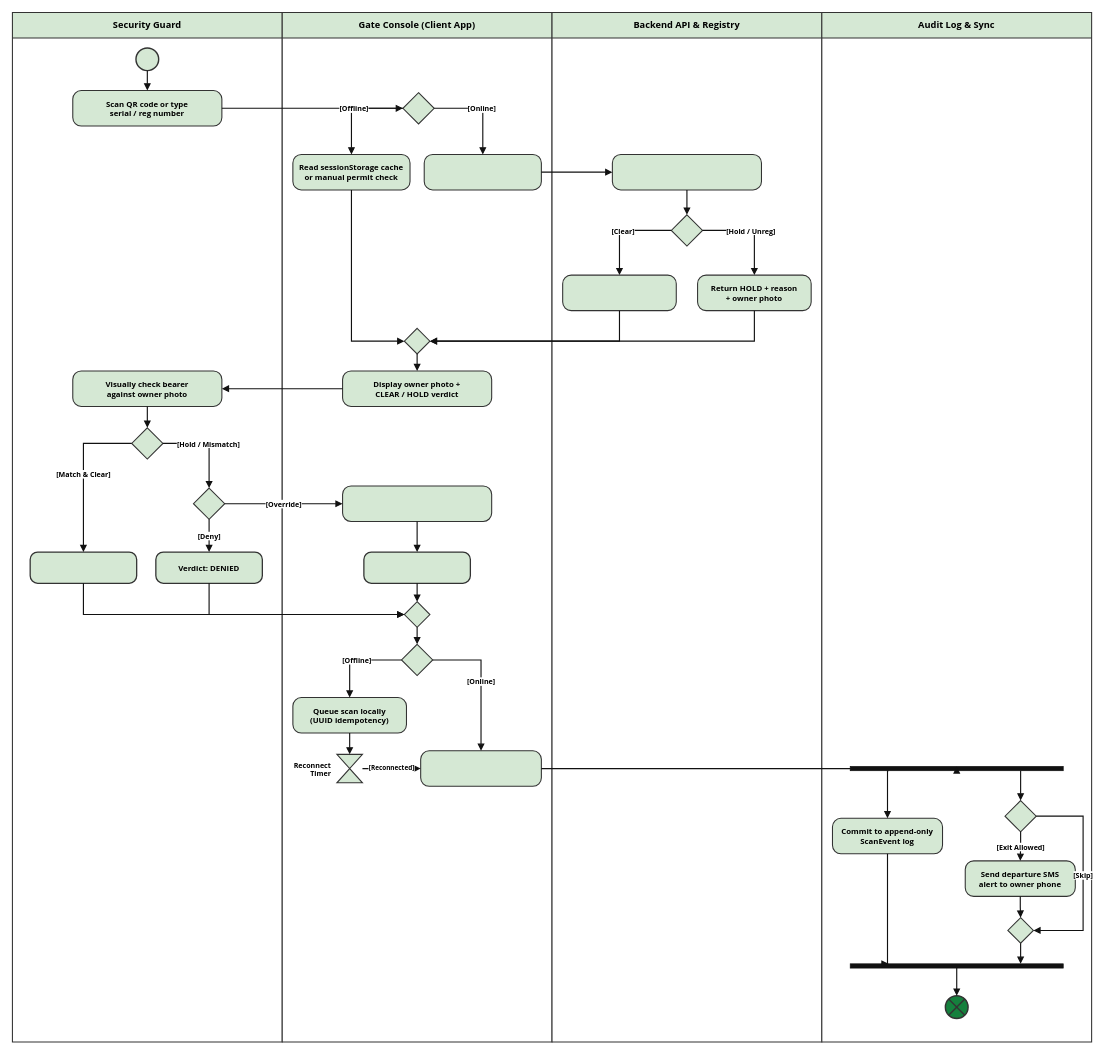
Some shapes in this 1105 by 1055 pixel diagram are drawn without their labels. Each missing label, with the centre of its shape:
"Call verification API (GET /checkpoint/lookup/)" goes at [482,172].
"Look up device & student in registry status" goes at [687,172].
"Prompt mandatory written override reason" goes at [417,503].
"Return CLEAR + owner photo" goes at [619,292].
"Submit scan to API (POST /checkpoint/scans/)" goes at [481,768].
"Verdict: ALLOWED" goes at [83,567].
"Verdict: OVERRIDE" goes at [417,567].
